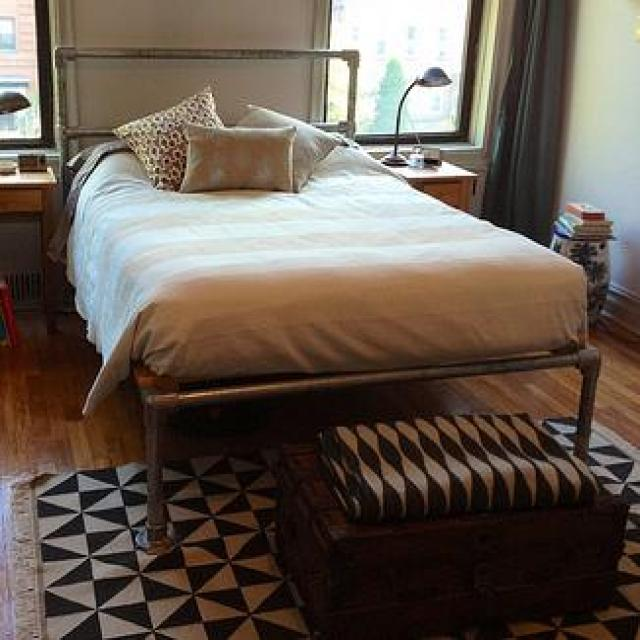bed: (53, 44, 599, 555)
